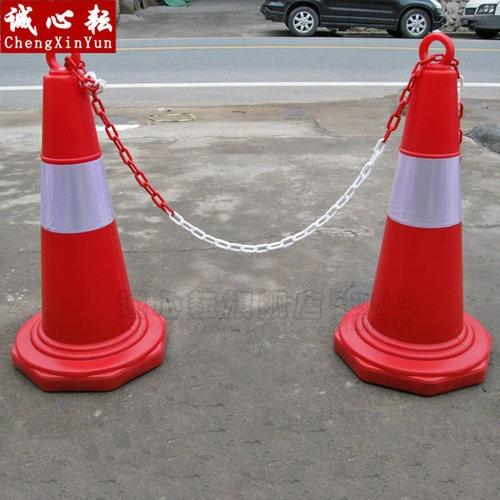cone_barrel: (346, 35, 485, 376), (18, 49, 159, 376)
